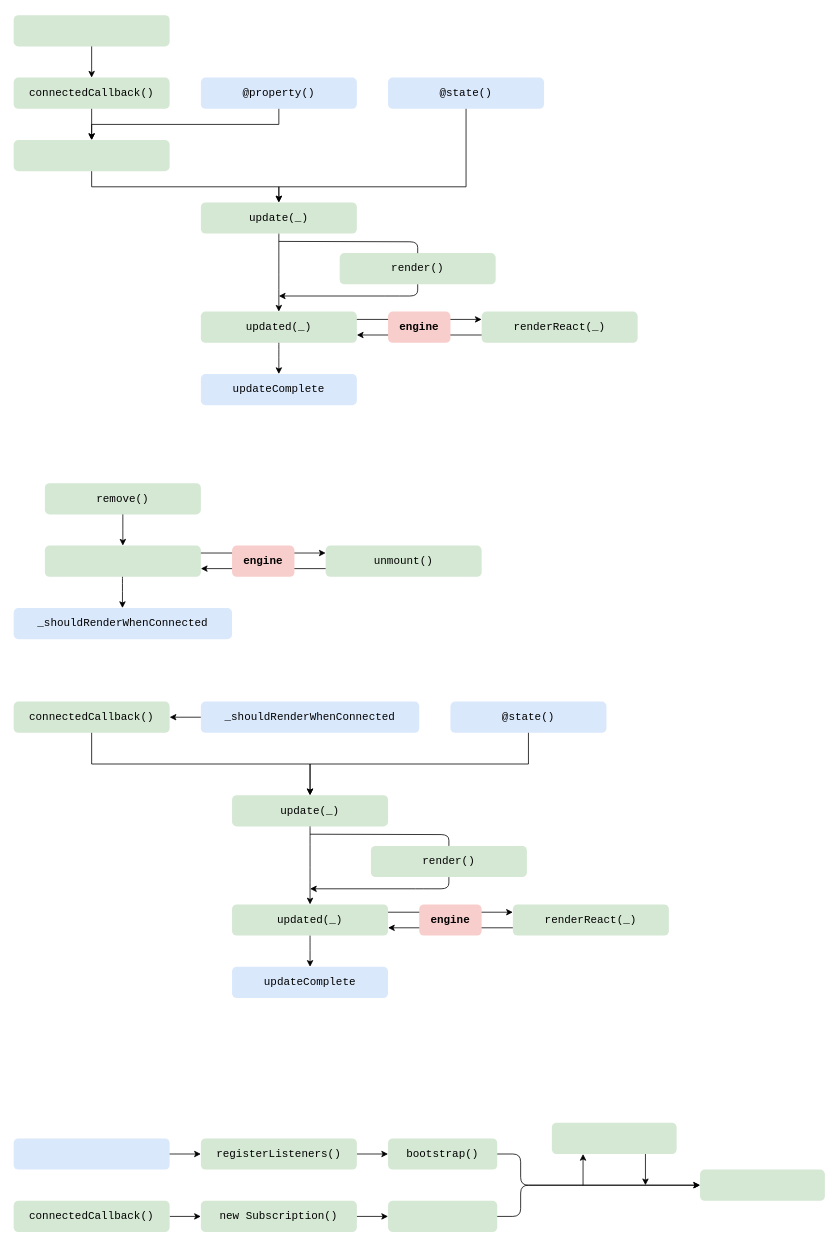
Image size: 838x1247. Some labels were removed from this diagram. Here are the shapes that lost their labels. From the top down, the box of each, then its label:
(13, 15, 169, 46): constructor()
(13, 140, 169, 171): firstUpdated(_)
(44, 545, 200, 576): disconnectedCallback()
(13, 1138, 169, 1169): @property() eventBus
(551, 1122, 676, 1154): firstUpdated()
(700, 1169, 824, 1200): updated()
(388, 1200, 497, 1232): kickoff()
